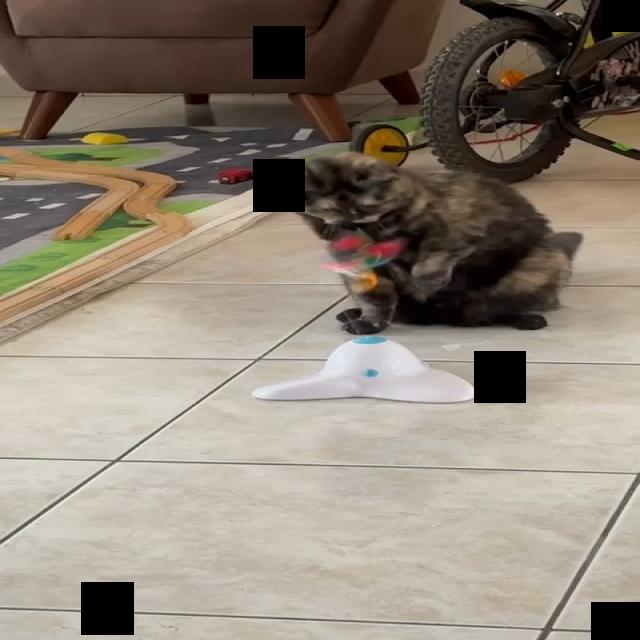authorized: (278, 150, 582, 335)
